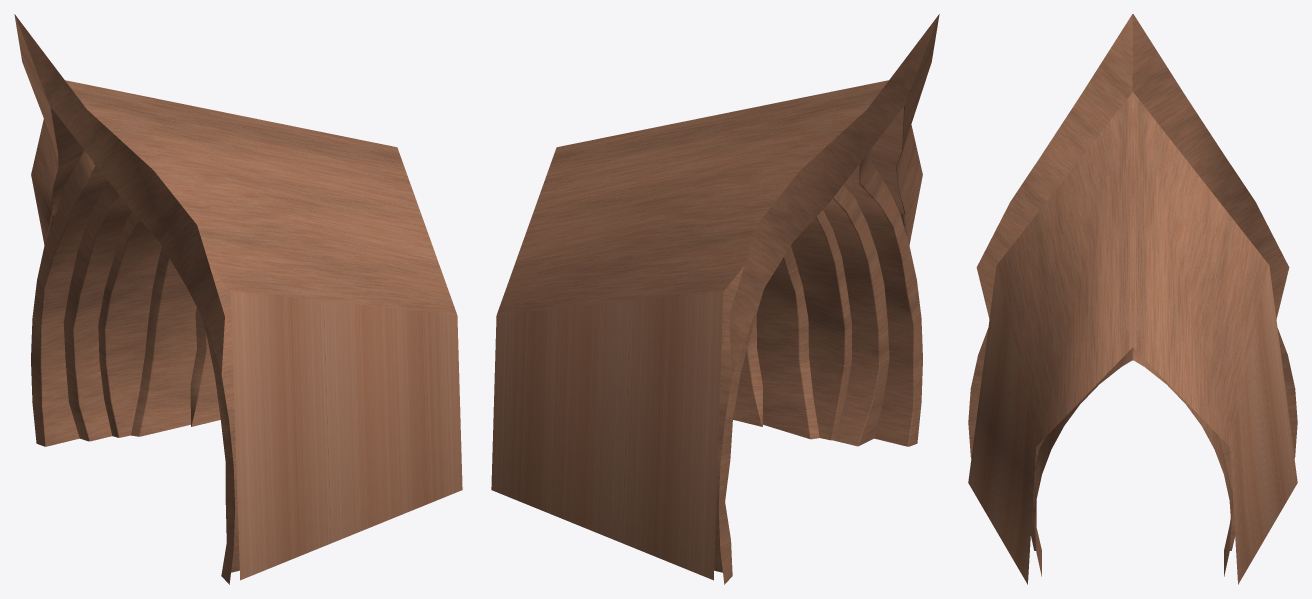
File: Geonosis_Tunnel02_Entrance.fbx
3 views of the same model, side by side, from view 1: azimuth 30°, elevation 25°; view 2: azimuth 150°, elevation 25°; view 3: azimuth 270°, elevation 25° (orthographic). The views are drawn at different scales.
Visible parts, largest first — view 1: Geonosis_Tunnel02_Entrance; view 2: Geonosis_Tunnel02_Entrance; view 3: Geonosis_Tunnel02_Entrance.
Part boxes in pixels (x1,y1,x2,y2): Geonosis_Tunnel02_Entrance: (14, 14, 462, 584); Geonosis_Tunnel02_Entrance: (491, 14, 939, 584); Geonosis_Tunnel02_Entrance: (968, 14, 1297, 584).
Size of the model in its own units: 724 by 956 by 669.
